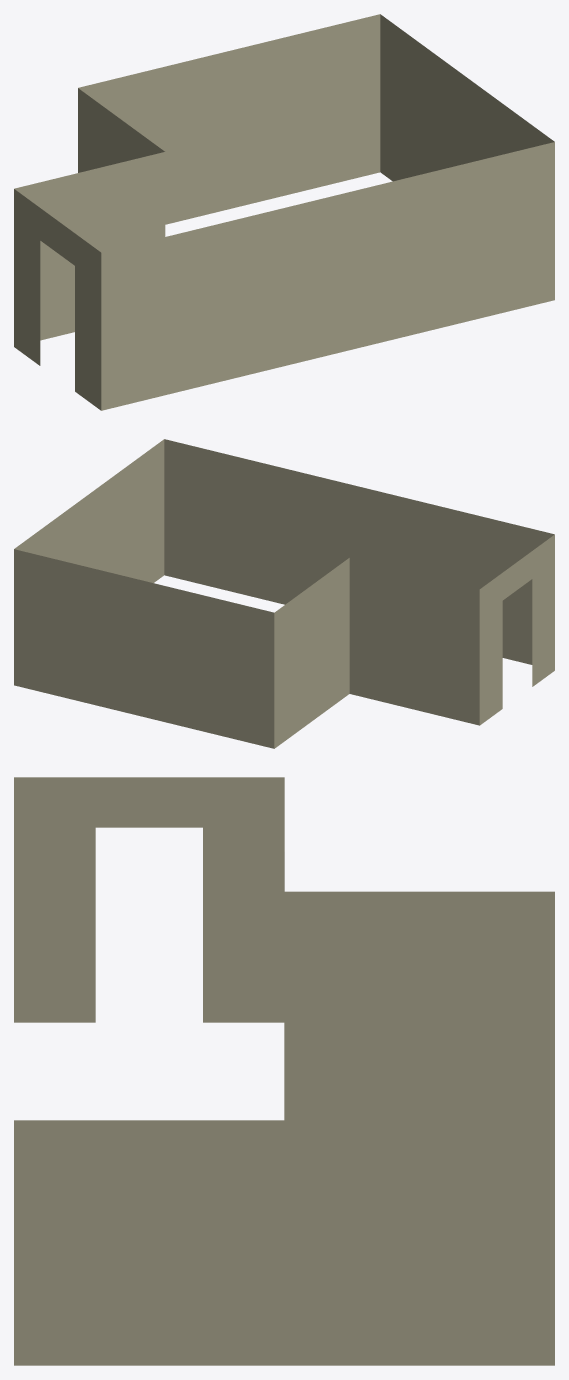
Rendered from Homeworld_Interior_Md_Room_G_Filling_01_Vo.fbx.
3 renders of one model, top to bottom at view 1: azimuth 30°, elevation 25°; view 2: azimuth 150°, elevation 25°; view 3: azimuth 270°, elevation 25°, orthographic. The views are drawn at different scales.
Parts seen in each view (by area): view 1: Homeworld_Interior_Md_Room_G_Filling_01_Vo; view 2: Homeworld_Interior_Md_Room_G_Filling_01_Vo; view 3: Homeworld_Interior_Md_Room_G_Filling_01_Vo.
Part boxes in pixels (<box>): Homeworld_Interior_Md_Room_G_Filling_01_Vo: <box>14,14,554,410</box>; Homeworld_Interior_Md_Room_G_Filling_01_Vo: <box>14,439,554,748</box>; Homeworld_Interior_Md_Room_G_Filling_01_Vo: <box>14,777,554,1365</box>.
Size of the model in its own units: 15 by 5 by 10.
